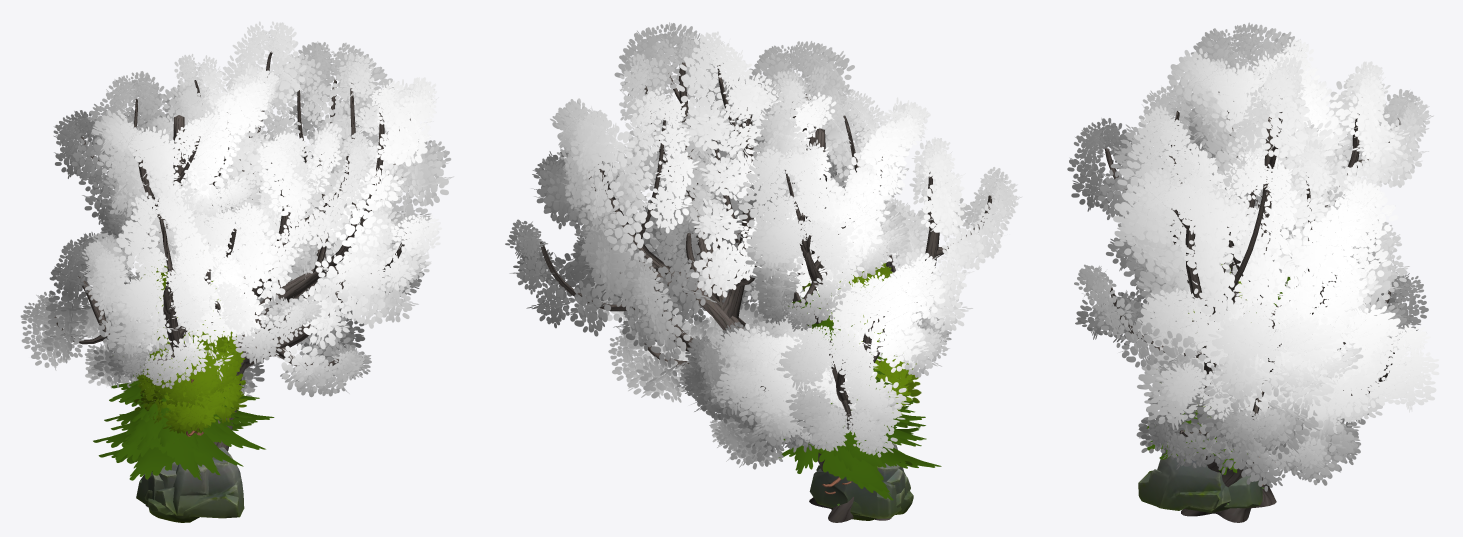
Rendered from megakit.glb.
The picture shows the model from 3 angles, left to right: view 1: azimuth 30°, elevation 25°; view 2: azimuth 150°, elevation 25°; view 3: azimuth 270°, elevation 25°; orthographic projection. The views are drawn at different scales.
Visible parts, largest first — view 1: TwistedTree_3, TwistedTree_1, Pine_5, Pine_2, Rock_Medium_3, CommonTree_1, CommonTree_3, CommonTree_2, Rock_Medium_1, Pine_1, Rock_Medium_2; view 2: TwistedTree_1, TwistedTree_3, Pine_5, Rock_Medium_2, Pine_2, CommonTree_2; view 3: TwistedTree_1, TwistedTree_3, Rock_Medium_3, Rock_Medium_2.
Part boxes in pixels (x1,y1,x2,y2): TwistedTree_3: [20, 54, 376, 396]; TwistedTree_1: [106, 21, 454, 507]; Pine_5: [93, 348, 274, 475]; Pine_2: [98, 339, 253, 480]; Rock_Medium_3: [148, 447, 244, 522]; CommonTree_1: [134, 334, 247, 433]; CommonTree_3: [141, 277, 245, 411]; CommonTree_2: [136, 330, 245, 436]; Rock_Medium_1: [144, 463, 209, 515]; Pine_1: [111, 336, 242, 457]; Rock_Medium_2: [136, 466, 176, 505]; TwistedTree_1: [505, 22, 927, 522]; TwistedTree_3: [677, 41, 1021, 469]; Pine_5: [783, 288, 930, 492]; Rock_Medium_2: [809, 463, 901, 518]; Pine_2: [778, 377, 941, 500]; CommonTree_2: [871, 360, 920, 410]; TwistedTree_1: [1074, 56, 1439, 522]; TwistedTree_3: [1067, 22, 1433, 479]; Rock_Medium_3: [1138, 447, 1225, 510]; Rock_Medium_2: [1224, 475, 1262, 508].
Bounding box in the file's own units: 15.83 × 16.84 × 11.71.
11 materials, 11 textured.
